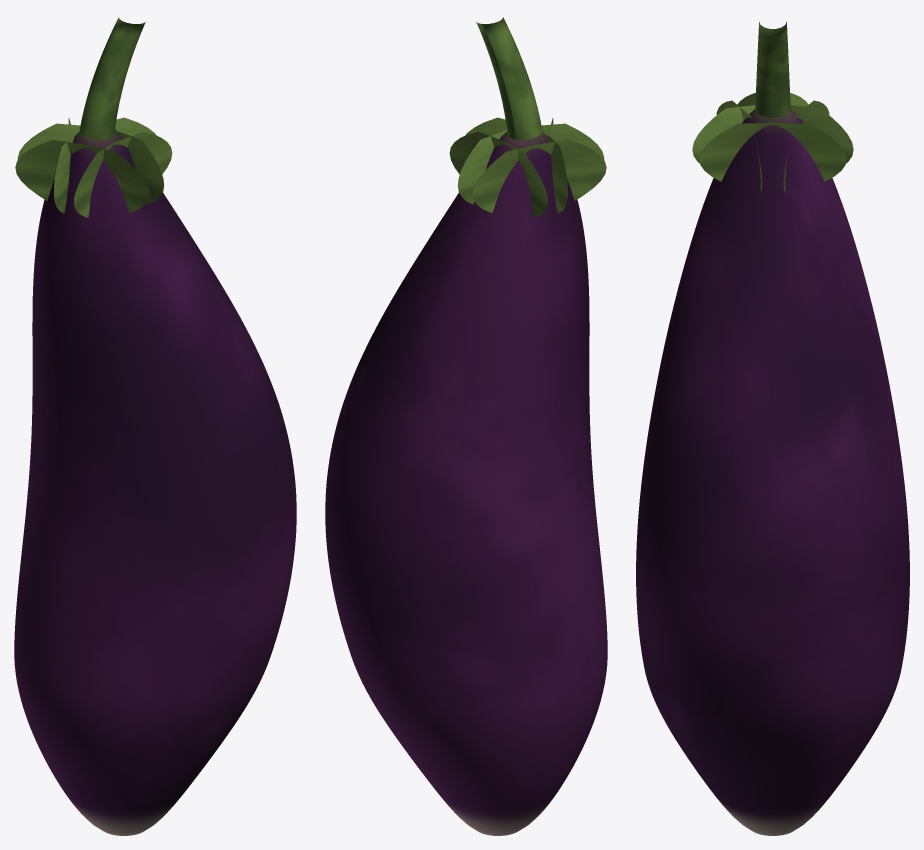
The model's file is bringelle.glb.
The picture shows the model from 3 angles, left to right: view 1: azimuth 30°, elevation 25°; view 2: azimuth 150°, elevation 25°; view 3: azimuth 270°, elevation 25°; orthographic projection.
Parts seen in each view (by area): view 1: moitie_A_peau, entier_peau, moitie_B_peau, entier_extra5, entier_extra2, entier_extra1, entier_extra0, entier_extra4, entier_extra3; view 2: moitie_B_peau, entier_peau, moitie_A_peau, entier_extra5, entier_extra3, entier_extra4, entier_extra0, entier_extra1, entier_extra2; view 3: entier_peau, moitie_A_peau, moitie_B_peau, entier_extra0, entier_extra5, entier_extra2, entier_extra3.
Part boxes in pixels (box(x1,y1,x2,y2)): moitie_A_peau: box(31, 132, 296, 835); entier_peau: box(14, 132, 296, 835); moitie_B_peau: box(14, 132, 92, 824); entier_extra5: box(79, 17, 145, 139); entier_extra2: box(15, 139, 149, 213); entier_extra1: box(74, 131, 172, 217); entier_extra0: box(115, 129, 164, 204); entier_extra4: box(17, 117, 156, 159); entier_extra3: box(54, 118, 74, 213); moitie_B_peau: box(325, 132, 590, 835); entier_peau: box(325, 132, 607, 835); moitie_A_peau: box(529, 132, 607, 824); entier_extra5: box(476, 17, 542, 139); entier_extra3: box(472, 139, 606, 213); entier_extra4: box(449, 131, 547, 217); entier_extra0: box(457, 129, 506, 204); entier_extra1: box(465, 117, 604, 159); entier_extra2: box(547, 118, 567, 213); entier_peau: box(636, 109, 909, 835); moitie_A_peau: box(636, 109, 772, 835); moitie_B_peau: box(773, 109, 909, 835); entier_extra0: box(699, 122, 846, 181); entier_extra5: box(755, 21, 790, 117); entier_extra2: box(692, 93, 808, 163); entier_extra3: box(737, 93, 853, 163).
Size of the model in its own units: 0.0725 by 0.2282 by 0.0693.
4 materials, 4 textured.
